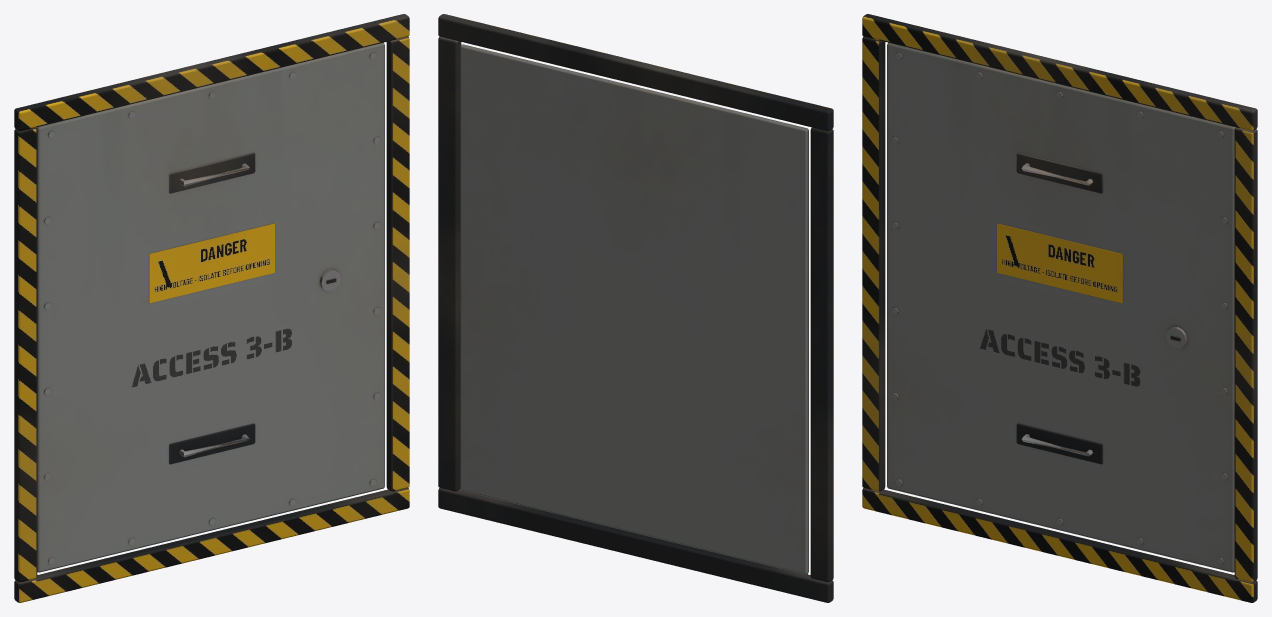
Rendered from wall_panel_access.glb.
The picture shows the model from 3 angles, left to right: view 1: azimuth 30°, elevation 25°; view 2: azimuth 150°, elevation 25°; view 3: azimuth 330°, elevation 25°; orthographic projection.
Parts seen in each view (by area): view 1: wall_panel_access; view 2: wall_panel_access; view 3: wall_panel_access.
Part boxes in pixels (x1=…): wall_panel_access: x1=14, y1=14, x2=409, y2=602; wall_panel_access: x1=438, y1=14, x2=833, y2=602; wall_panel_access: x1=862, y1=14, x2=1257, y2=602.
Size of the model in its own units: 1 by 1.2 by 0.0349.
1 material, 1 textured.
